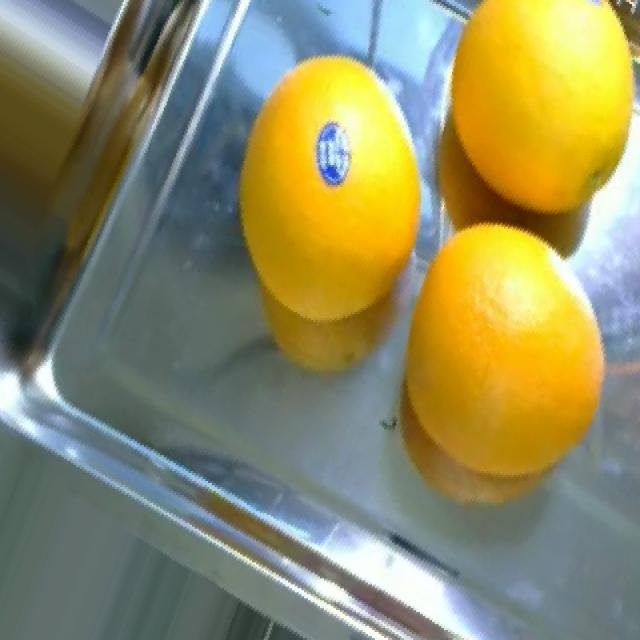Good_Orange: (404, 225, 607, 475), (239, 56, 421, 324), (453, 0, 635, 215)
